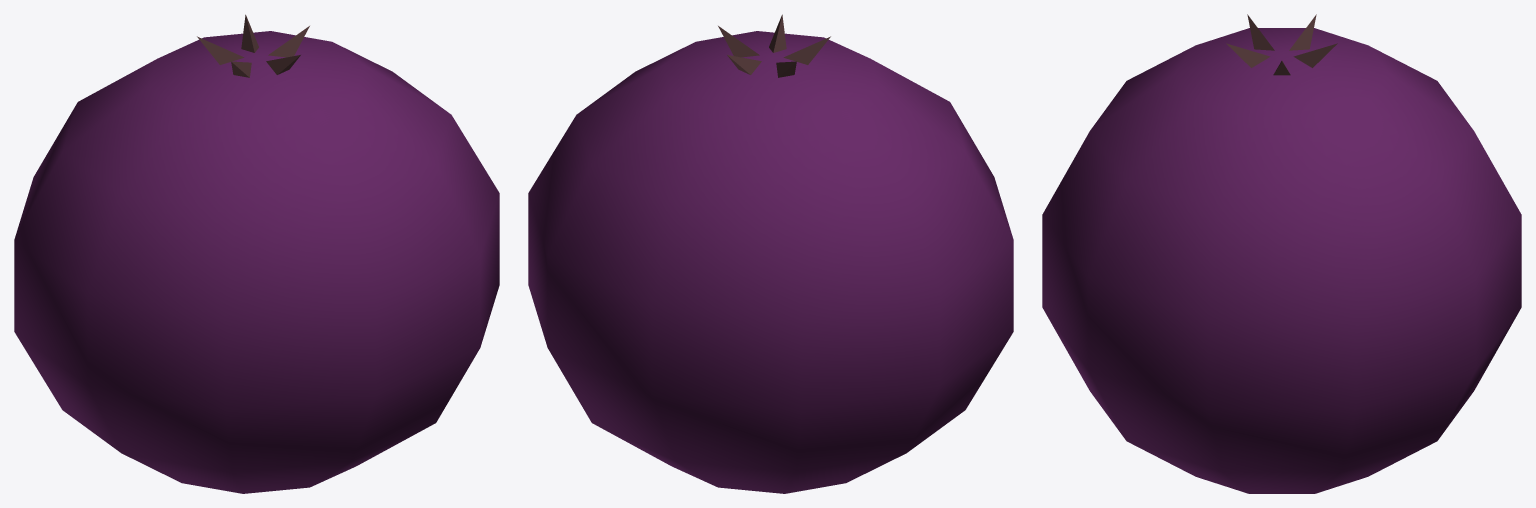
Rendered from heathberry.glb.
The picture shows the model from 3 angles, left to right: view 1: azimuth 30°, elevation 25°; view 2: azimuth 150°, elevation 25°; view 3: azimuth 270°, elevation 25°; orthographic projection.
Parts seen in each view (by area): view 1: heathberry; view 2: heathberry; view 3: heathberry.
Part boxes in pixels (box(x1,y1,x2,y2)): heathberry: box(14, 14, 499, 493); heathberry: box(528, 14, 1013, 493); heathberry: box(1042, 14, 1521, 493).
Size of the model in its own units: 0.012 by 0.012 by 0.012.
